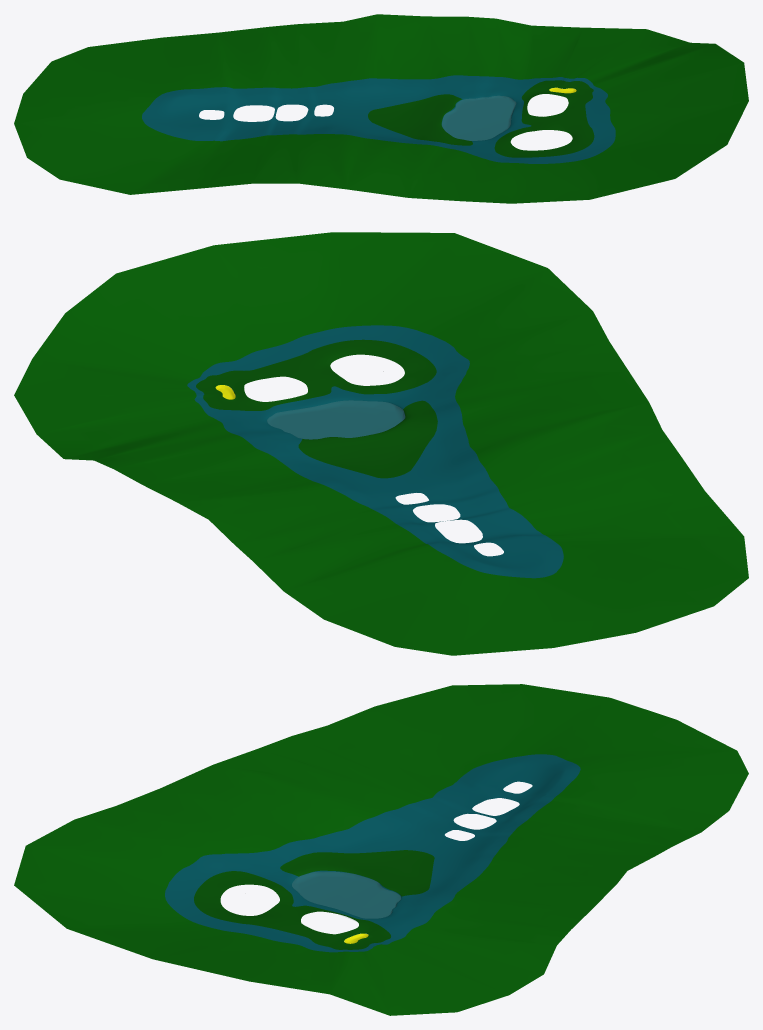
The model's file is Course4_Big.fbx.
3 renders of one model, top to bottom at view 1: azimuth 30°, elevation 25°; view 2: azimuth 150°, elevation 25°; view 3: azimuth 270°, elevation 25°, orthographic. The views are drawn at different scales.
Parts seen in each view (by area): view 1: OOB, Course, Water; view 2: OOB, Course, Water; view 3: OOB, Course, Water.
Part boxes in pixels (box(x1,y1,x2,y2)): OOB: box(14, 14, 748, 203); Course: box(142, 75, 615, 163); Water: box(442, 96, 515, 140); OOB: box(14, 232, 748, 655); Course: box(187, 325, 563, 578); Water: box(267, 400, 404, 439); OOB: box(14, 684, 748, 1015); Course: box(165, 754, 580, 952); Water: box(292, 872, 400, 921).
Bounding box in the file's own units: 3244 × 204 × 2944.
